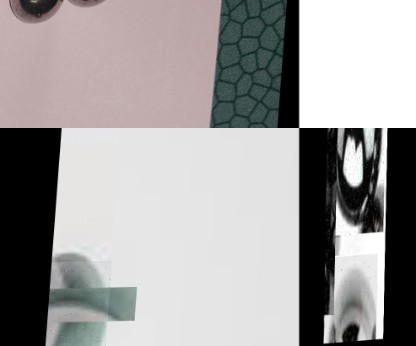ironball: (327, 128, 385, 238), (48, 261, 114, 346), (324, 255, 378, 344), (324, 128, 337, 316)
